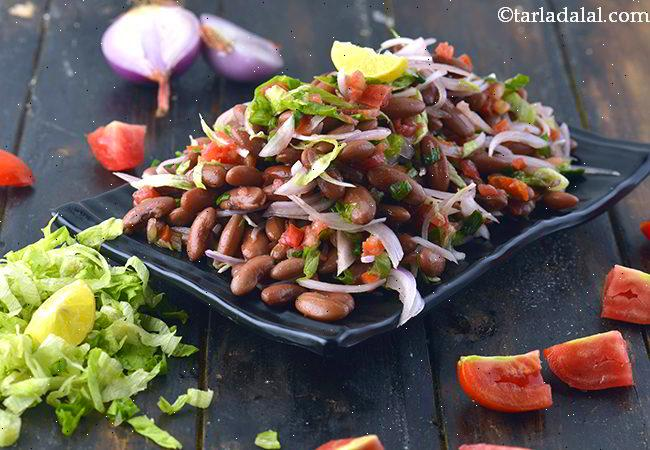rajma: (157, 51, 587, 308)
